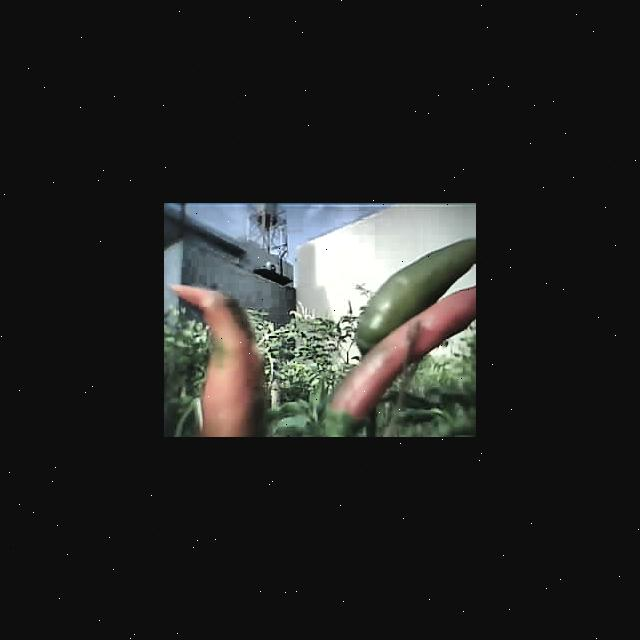Cabai: (178, 278, 264, 437), (335, 342, 398, 415)
